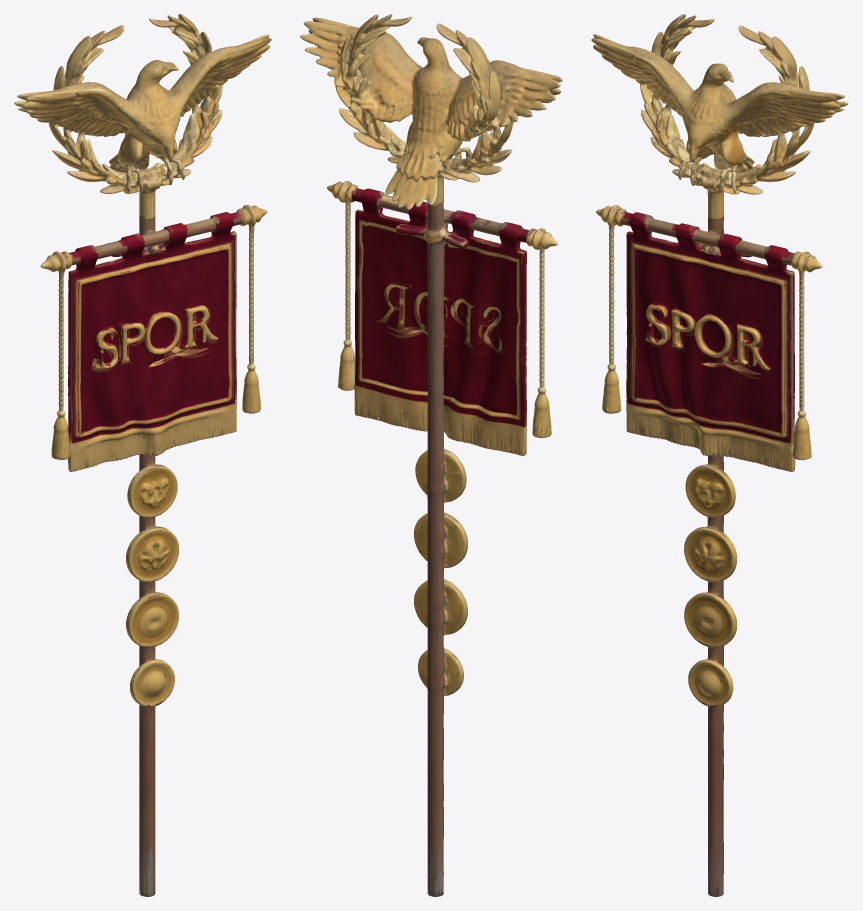
The model's file is aquila.glb.
The picture shows the model from 3 angles, left to right: view 1: azimuth 30°, elevation 25°; view 2: azimuth 150°, elevation 25°; view 3: azimuth 330°, elevation 25°; orthographic projection. The views are drawn at different scales.
Bounding box in the file's own units: 18975 × 62220 × 7398.
Materials: 1 (1 with a texture image).
